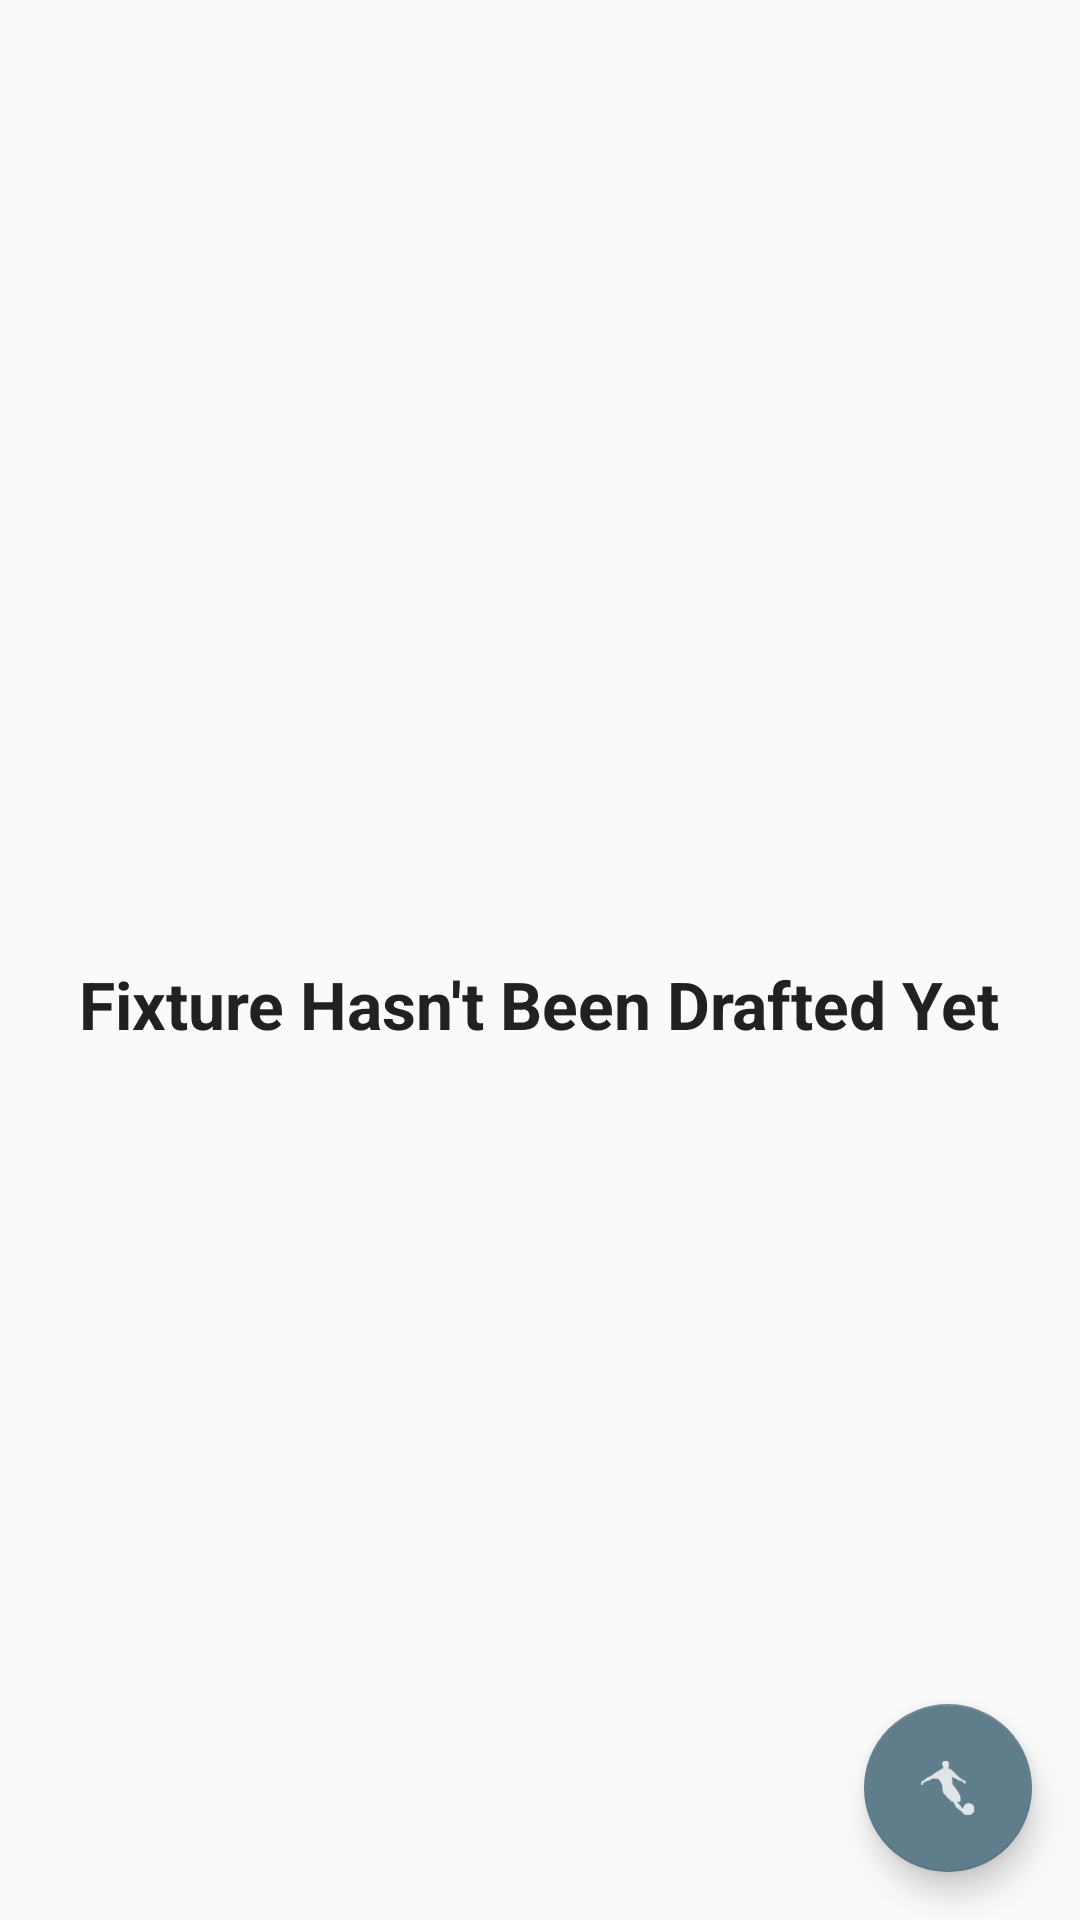

Point at icon controls on the screen. Image size 1080w x 1920h, points as [x,y].
kick: [948,1788]
